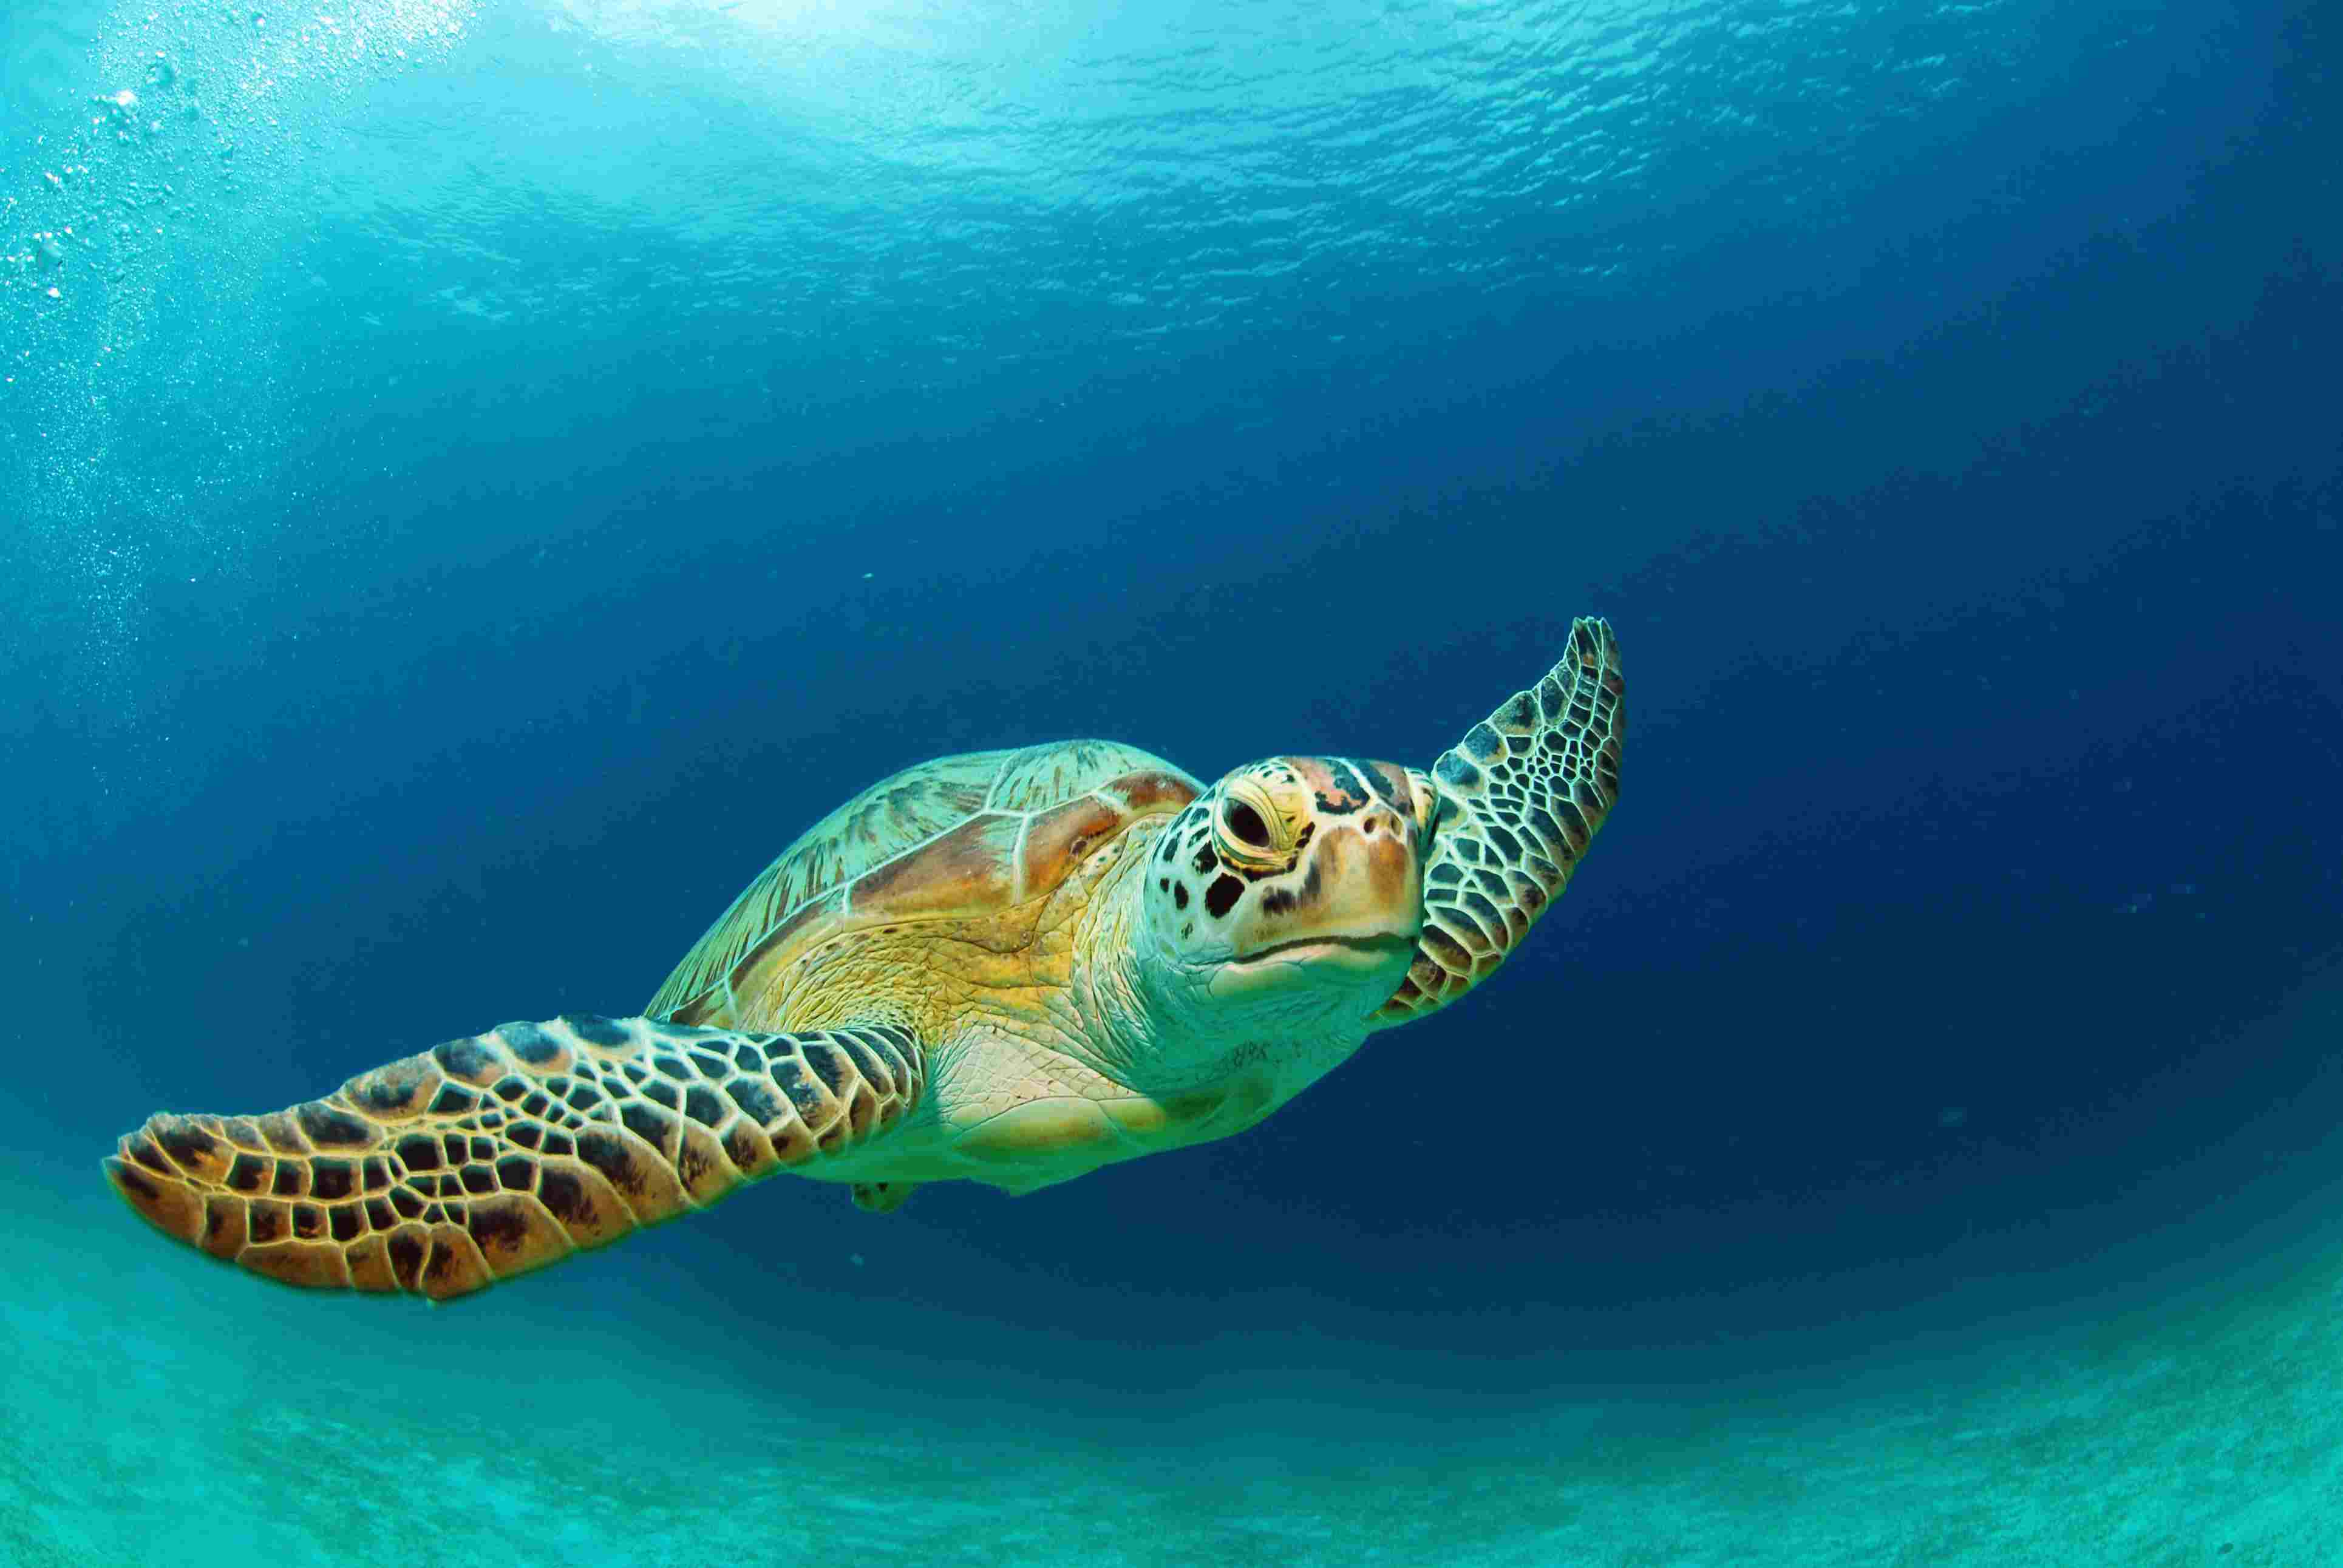eye: (1207, 773, 1311, 878), (1396, 759, 1454, 875)
mouth: (1190, 915, 1431, 1003)
